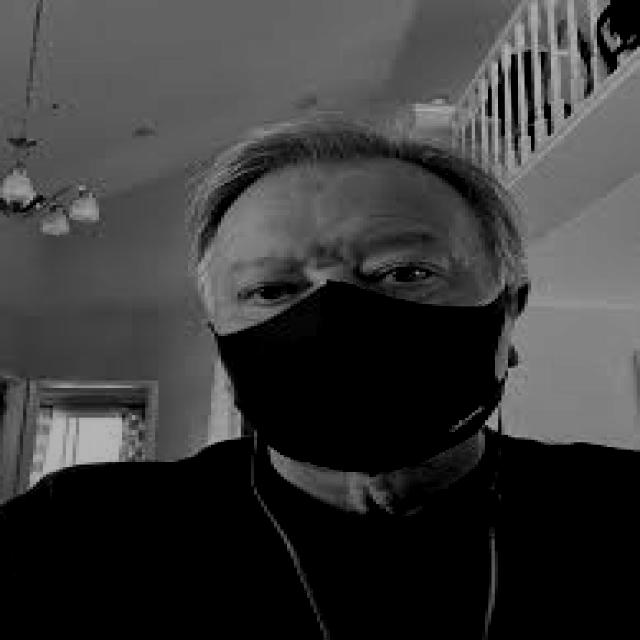fake: (205, 271, 531, 473)
real: (213, 167, 505, 478)
